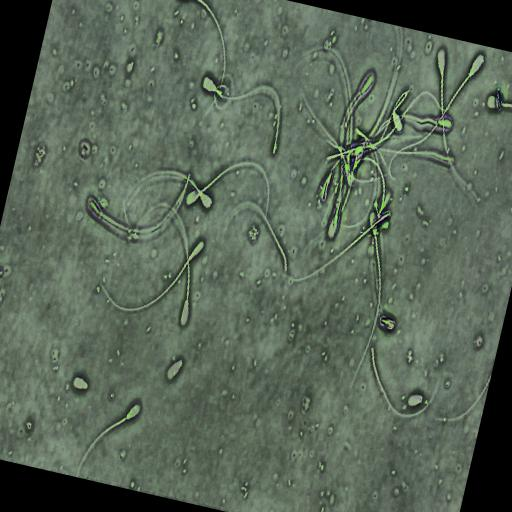coiled-tail: (380, 316, 396, 330)
folded-tail: (354, 91, 408, 154), (214, 75, 233, 109), (395, 94, 405, 108)
loose-head: (165, 357, 184, 383), (406, 391, 424, 409), (71, 374, 89, 391)
loose-tail: (370, 346, 440, 421), (222, 199, 288, 273), (223, 83, 282, 157), (431, 371, 492, 422)
normal: (386, 49, 491, 189), (94, 231, 213, 324), (130, 192, 197, 333), (435, 42, 486, 209), (86, 168, 194, 243), (347, 205, 386, 393), (70, 391, 147, 478), (184, 156, 274, 227), (168, 0, 235, 81), (118, 163, 217, 216), (338, 70, 376, 204), (352, 84, 411, 158), (200, 71, 236, 111), (483, 87, 512, 115), (377, 312, 397, 333)
